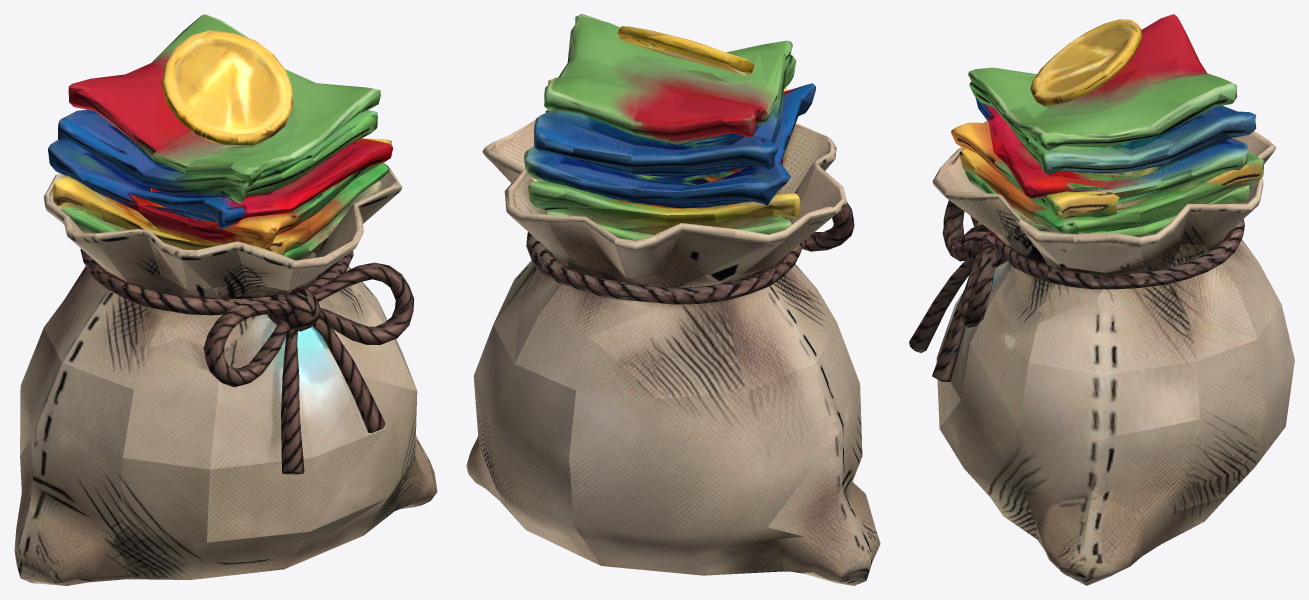
File: rag_collector.glb
3 views of the same model, side by side, from view 1: azimuth 30°, elevation 25°; view 2: azimuth 150°, elevation 25°; view 3: azimuth 270°, elevation 25° (orthographic). The views are drawn at different scales.
Bounding box in the file's own units: 0.8359 × 1 × 0.7402.
1 material, 1 textured.
